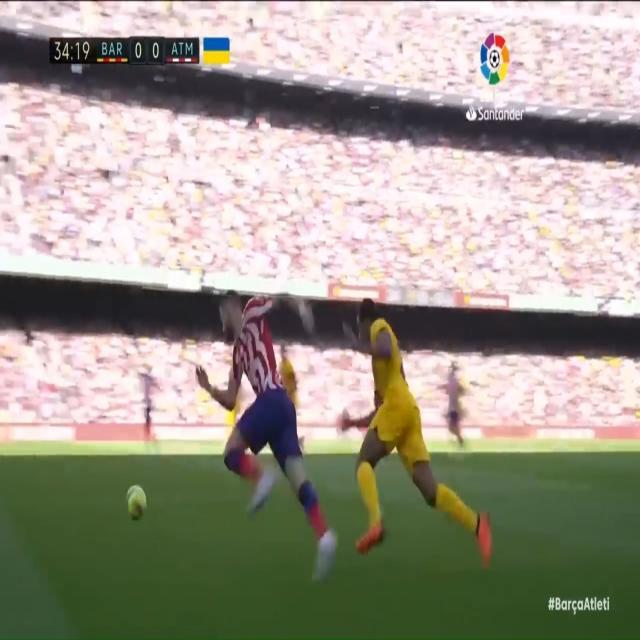player: (332, 299, 501, 572), (205, 279, 338, 592), (122, 481, 152, 532)
